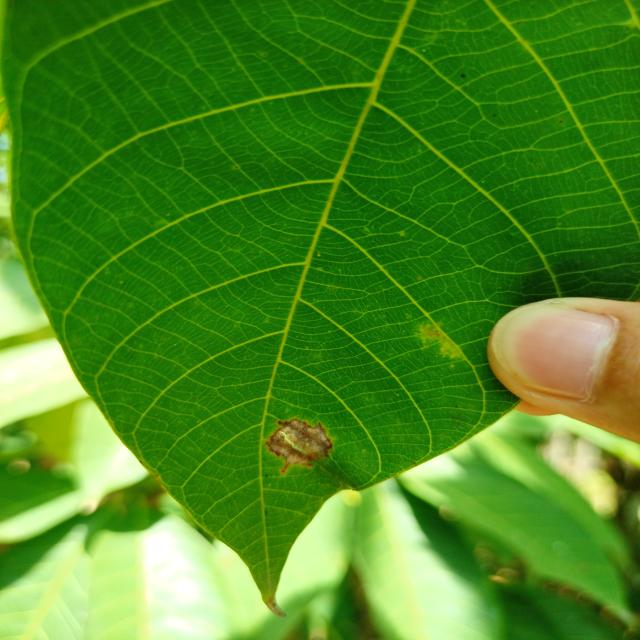Leaf-Blight: (268, 419, 332, 465)
